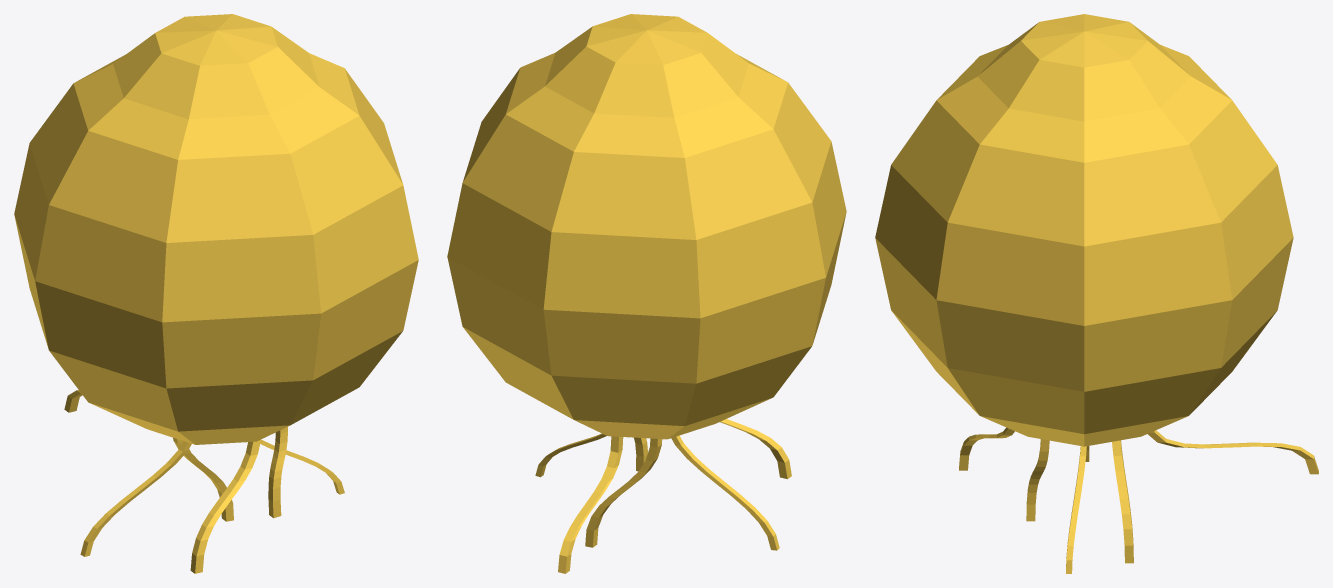
File: OnionModel.fbx
The picture shows the model from 3 angles, left to right: view 1: azimuth 30°, elevation 25°; view 2: azimuth 150°, elevation 25°; view 3: azimuth 270°, elevation 25°; orthographic projection.
Parts seen in each view (by area): view 1: Onion; view 2: Onion; view 3: Onion.
Boxes of the visible parts, x1=… form: Onion: x1=14, y1=14, x2=418, y2=573; Onion: x1=447, y1=14, x2=846, y2=573; Onion: x1=875, y1=14, x2=1318, y2=573.
Bounding box in the file's own units: 39.42 × 41.79 × 53.36.
